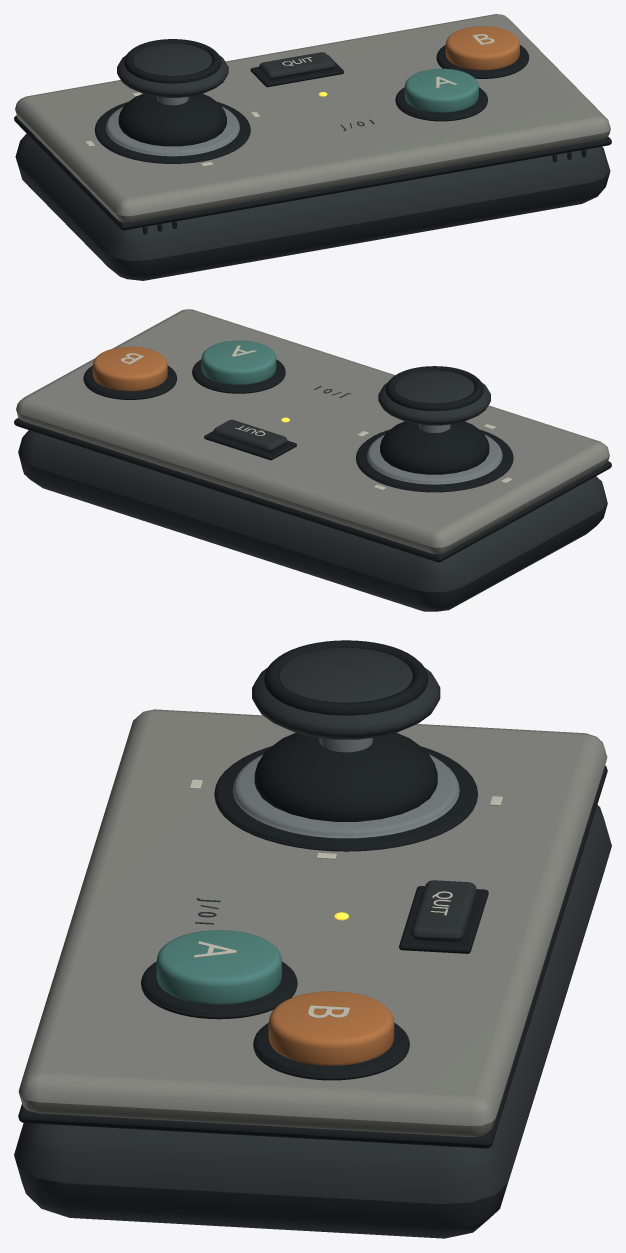
The model's file is controller.glb.
The picture shows the model from 3 angles, top to bottom: view 1: azimuth 30°, elevation 25°; view 2: azimuth 150°, elevation 25°; view 3: azimuth 270°, elevation 25°; orthographic projection. The views are drawn at different scales.
Visible parts, largest first — view 1: Pad • upper warm grey face, Pad • lower graphite shell, Joystick • flexible boot, Pad • rubber seam, Joystick • thumb cap, BUTTON_A, BUTTON_B, Joystick • recessed well, Joystick • socket rim, Joystick • thumb rim, BUTTON_QUIT, Button A • surround (+2 smaller); view 2: Pad • upper warm grey face, Pad • lower graphite shell, Joystick • flexible boot, Pad • rubber seam, Joystick • thumb cap, BUTTON_A, BUTTON_B, Joystick • recessed well, Joystick • socket rim, Joystick • thumb rim, BUTTON_QUIT, Button A • surround (+2 smaller); view 3: Pad • upper warm grey face, Pad • lower graphite shell, Joystick • flexible boot, Joystick • thumb cap, BUTTON_A, BUTTON_B, Pad • rubber seam, Joystick • recessed well, Joystick • socket rim, Joystick • thumb rim, Button B • surround, BUTTON_QUIT (+2 smaller).
Boxes of the visible parts, box(x1,y1,x2,y2) form: Pad • upper warm grey face: box(15, 14, 610, 222); Pad • lower graphite shell: box(15, 133, 610, 280); Joystick • flexible boot: box(118, 94, 226, 146); Pad • rubber seam: box(14, 115, 611, 230); Joystick • thumb cap: box(117, 43, 228, 97); BUTTON_A: box(404, 68, 478, 112); BUTTON_B: box(445, 26, 519, 70); Joystick • recessed well: box(94, 102, 250, 163); Joystick • socket rim: box(105, 106, 239, 156); Joystick • thumb rim: box(124, 39, 221, 83); BUTTON_QUIT: box(259, 52, 335, 79); Button A • surround: box(395, 87, 487, 121); Pad • upper warm grey face: box(16, 309, 609, 554); Pad • lower graphite shell: box(18, 430, 607, 611); Joystick • flexible boot: box(380, 421, 489, 474); Pad • rubber seam: box(14, 418, 611, 562); Joystick • thumb cap: box(378, 370, 490, 425); BUTTON_A: box(201, 340, 276, 384); BUTTON_B: box(92, 346, 167, 391); Joystick • recessed well: box(356, 429, 513, 492); Joystick • socket rim: box(367, 434, 502, 484); Joystick • thumb rim: box(385, 366, 483, 410); BUTTON_QUIT: box(213, 419, 287, 452); Button A • surround: box(192, 359, 285, 393); Pad • upper warm grey face: box(18, 709, 607, 1137); Pad • lower graphite shell: box(14, 805, 611, 1238); Joystick • flexible boot: box(254, 733, 437, 821); Joystick • thumb cap: box(252, 648, 440, 739); BUTTON_A: box(156, 930, 281, 1004); BUTTON_B: box(268, 991, 394, 1065); Pad • rubber seam: box(18, 765, 607, 1148); Joystick • recessed well: box(214, 746, 477, 851); Joystick • socket rim: box(232, 754, 459, 838); Joystick • thumb rim: box(264, 640, 428, 715); Button B • surround: box(253, 1023, 409, 1080); BUTTON_QUIT: box(411, 880, 476, 942).
Size of the model in its own units: 1.04 by 0.333 by 0.6482.
